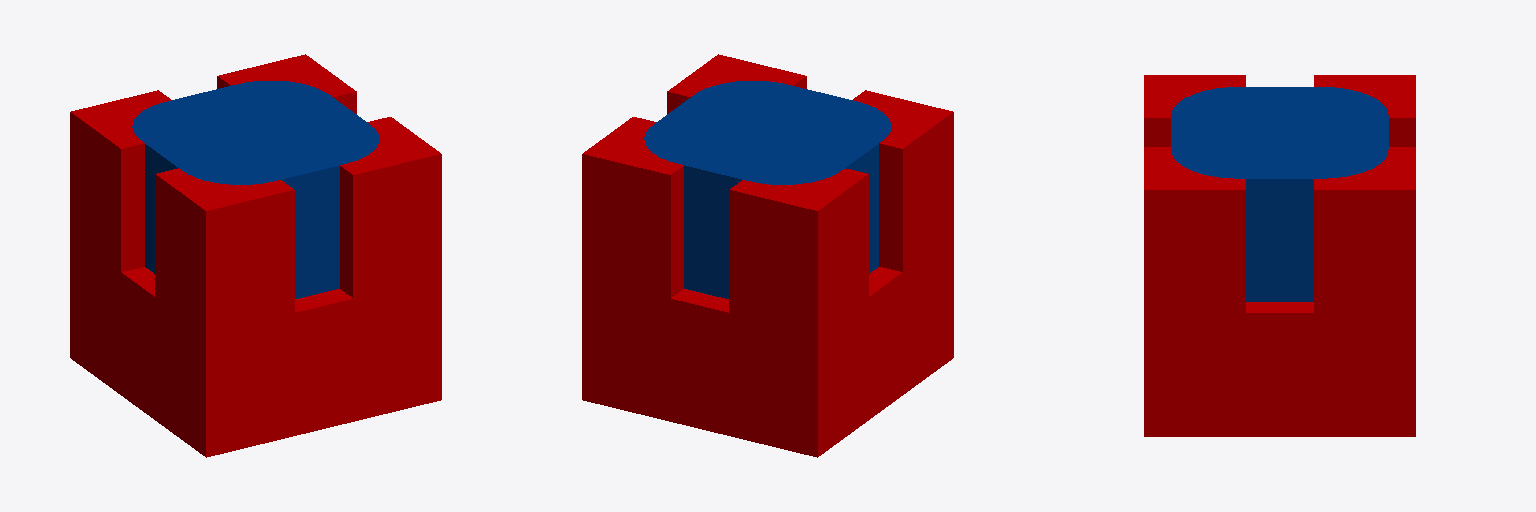
Rendered from Block_Key.obj.
The picture shows the model from 3 angles: view 1: azimuth 30°, elevation 25°; view 2: azimuth 150°, elevation 25°; view 3: azimuth 270°, elevation 25°; orthographic projection.
Visible parts, largest first — view 1: Plane; view 2: Plane; view 3: Plane.
Boxes of the visible parts, x1,y1,x2,y2 form: Plane: [70, 54, 441, 457]; Plane: [582, 54, 953, 457]; Plane: [1144, 75, 1415, 436].
Bounding box in the file's own units: 1 × 1 × 1.